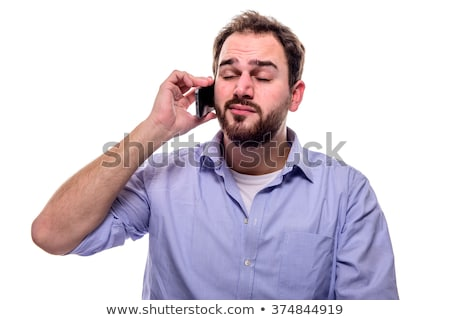phone: (173, 60, 218, 133)
talk: (149, 45, 282, 146)
